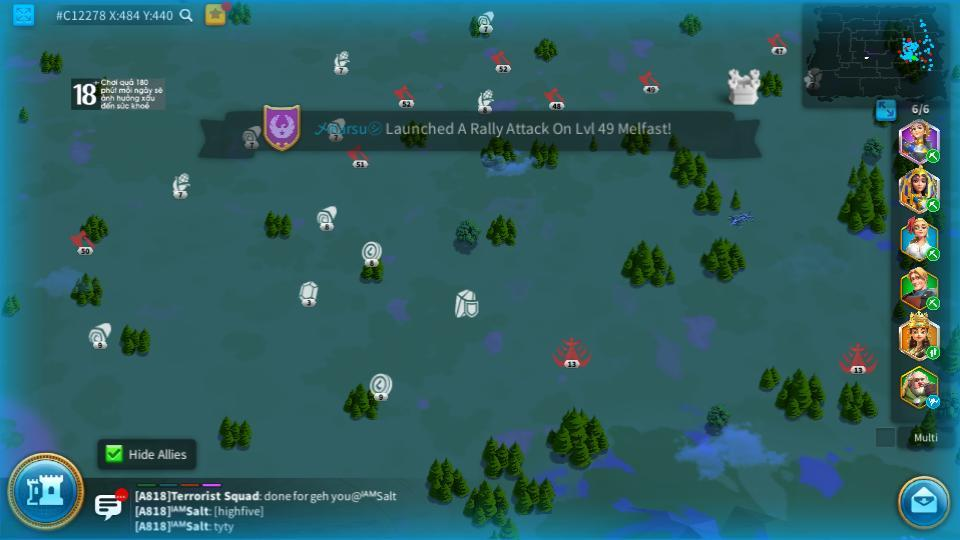gem-z-out: (297, 280, 317, 304)
march_farming: (923, 197, 940, 212), (925, 297, 941, 310), (925, 149, 941, 162), (924, 248, 939, 261)
march_idle: (925, 395, 943, 407)
march_marching: (925, 346, 942, 358)
